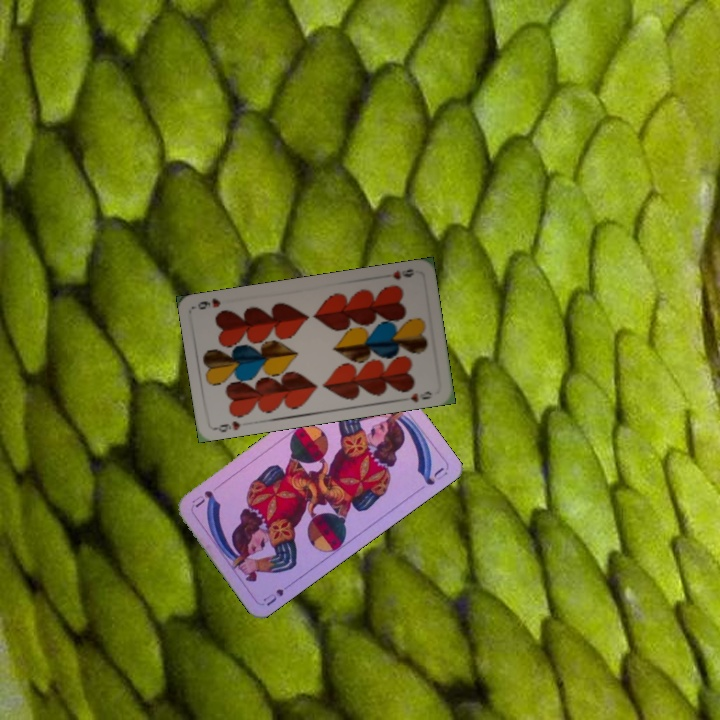H9: (211, 417, 243, 435), (389, 265, 417, 282)
SU: (259, 578, 296, 609)
